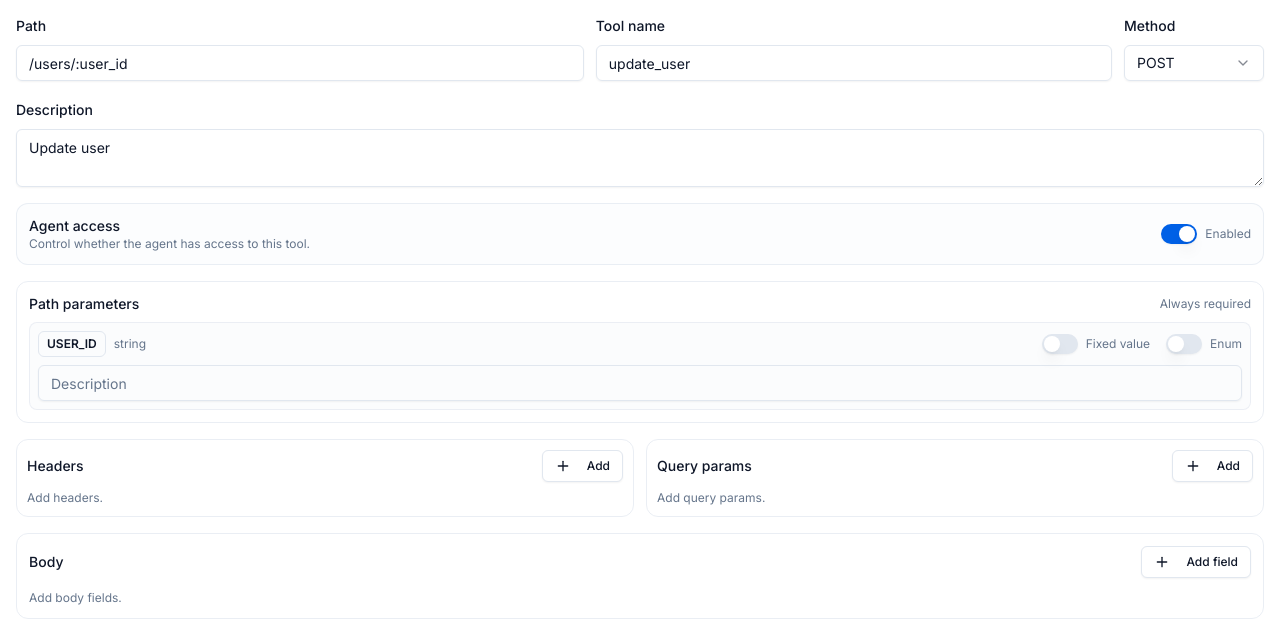
Test: ToolEditor validation UI › replaces spaces with underscores in variable and path param names while typing
(page scrolled)
Expected: the field with test id "tool-path" holds "/users/:user_id", [16, 45, 584, 81]
Expected: the field with test id "path-param-user_id-description" is shown, [38, 365, 1242, 401]
Click the button with test id "add-headers" at coordinates (582, 466), box [542, 450, 623, 482]
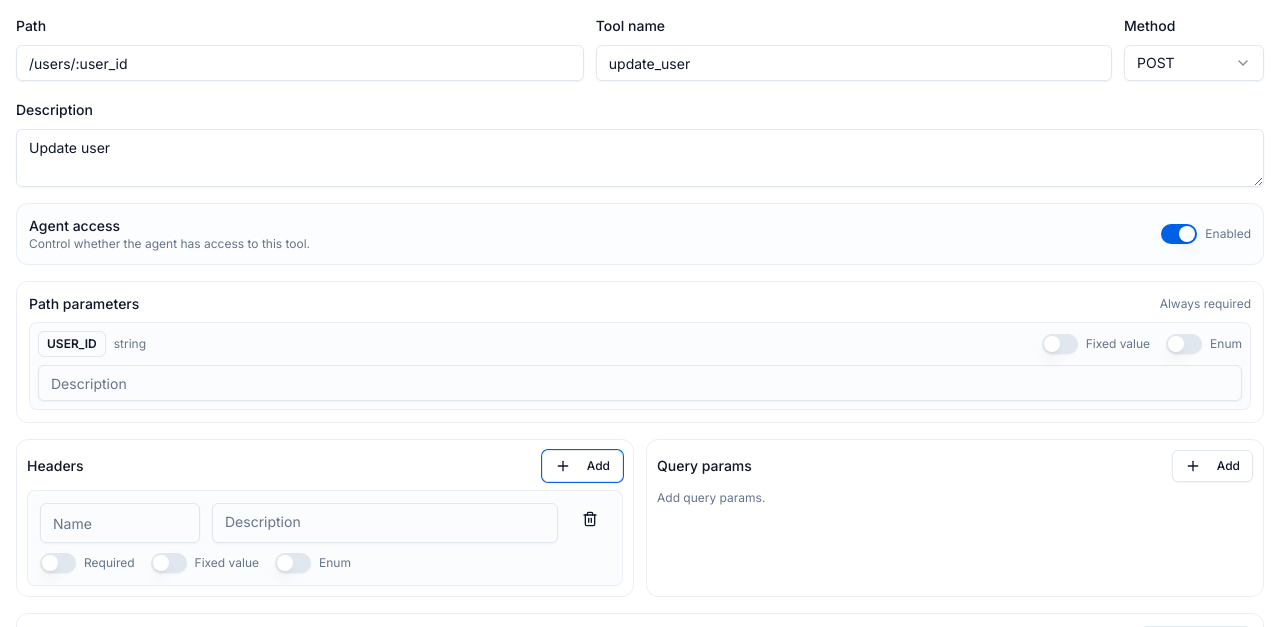
Type "x api key" into the field with placeholder "Name" at coordinates (120, 523), box [40, 503, 200, 543]
(page scrolled)
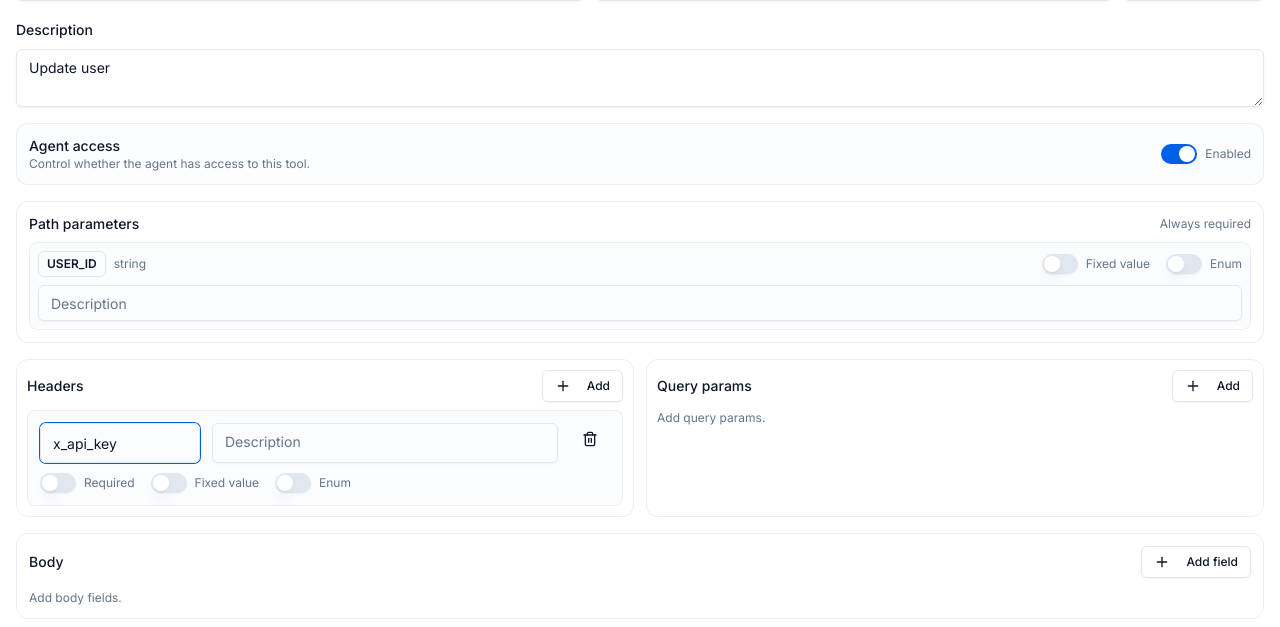
Click the button "Add field" at coordinates (1196, 562), box [1141, 546, 1251, 578]
(page scrolled)
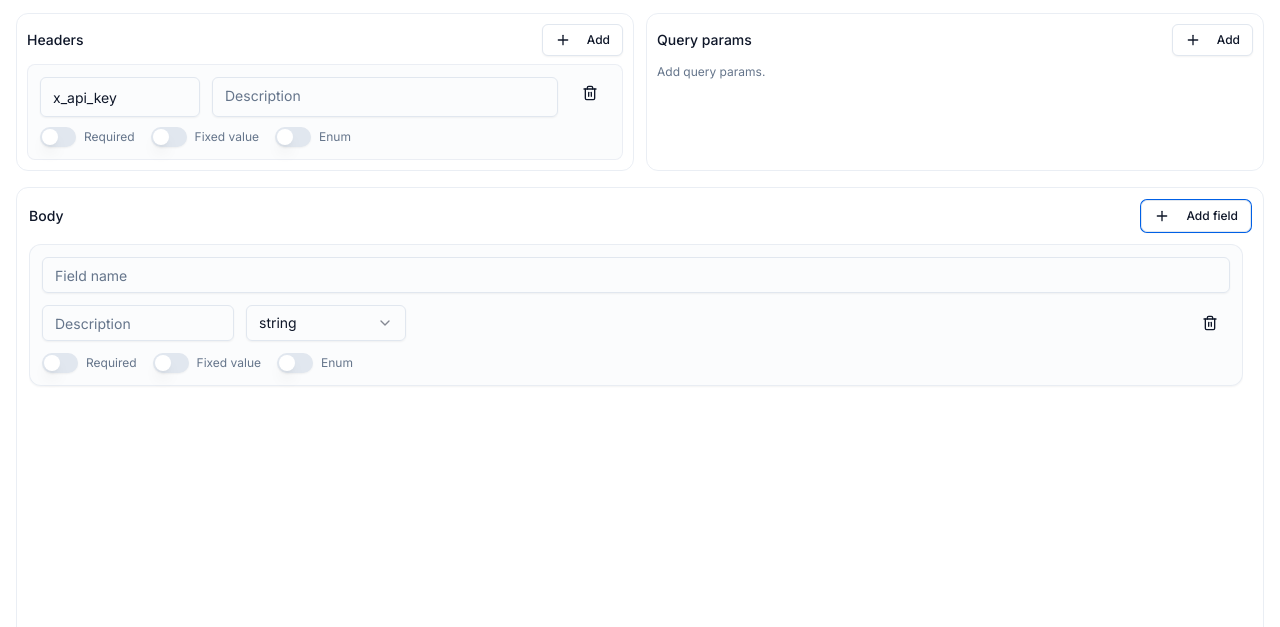
Type "line item" into the field with placeholder "Field name" at coordinates (636, 275), box [42, 257, 1230, 293]
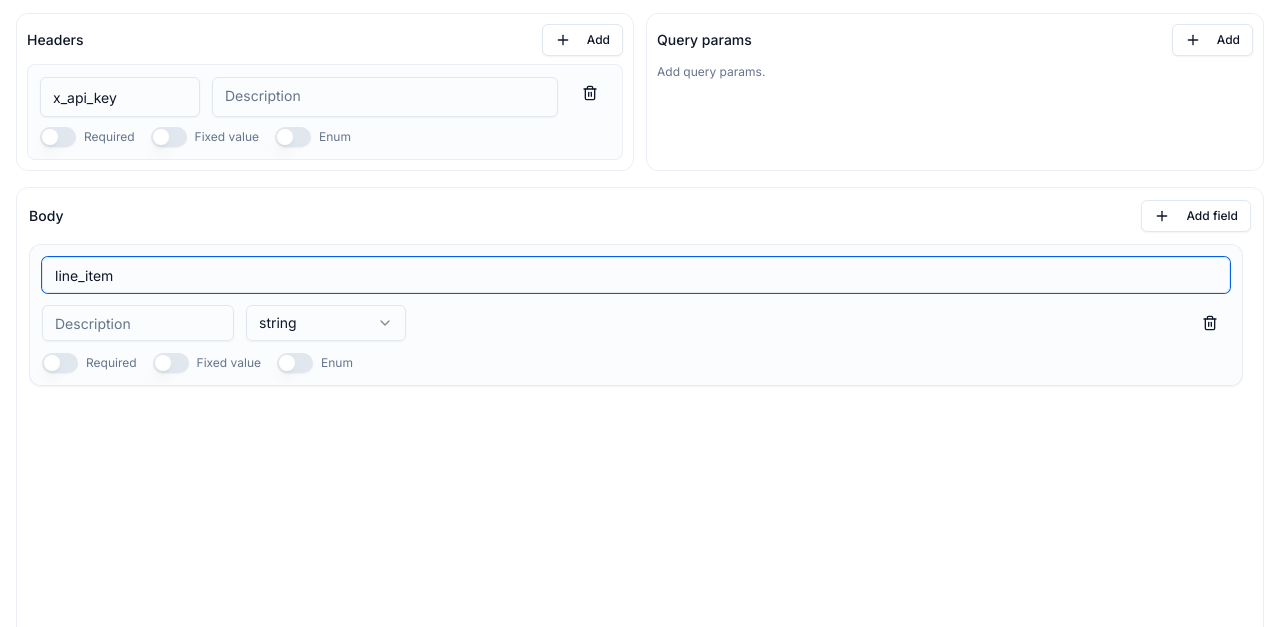
Result: the 2nd field with placeholder "Field name" holds "line_item" at [42, 257, 1230, 293]
